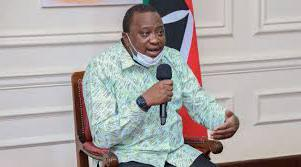mask_weared_incorrect: (132, 25, 164, 63)
